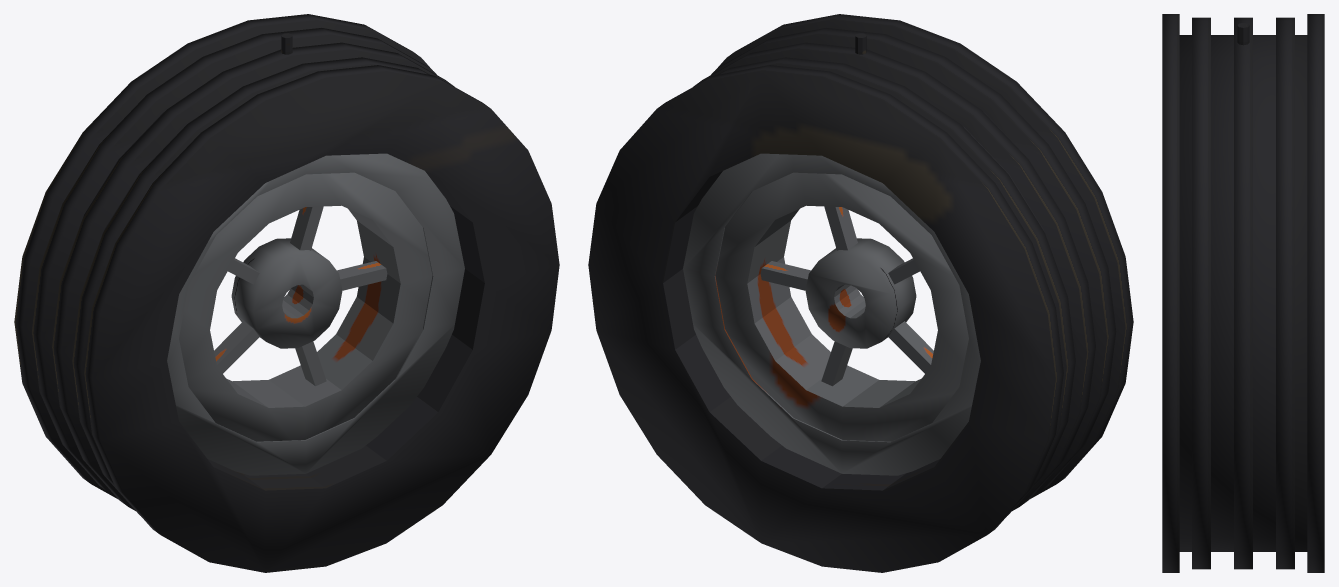
Rendered from old_tire.glb.
The picture shows the model from 3 angles, left to right: view 1: azimuth 30°, elevation 25°; view 2: azimuth 150°, elevation 25°; view 3: azimuth 270°, elevation 25°; orthographic projection. The views are drawn at different scales.
Visible parts, largest first — view 1: Sidewall, RimBarrel, RimFlange, TreadRib.001, TreadRib.002, Sidewall.001, TreadRib, Hub, TreadCore, Spoke.003, Spoke.001, Spoke (+1 smaller); view 2: Sidewall.001, RimBarrel, RimFlange.001, TreadRib.001, TreadRib, Sidewall, TreadRib.002, Hub, TreadCore, Spoke.003, Spoke.001, Spoke (+1 smaller); view 3: TreadCore, TreadRib, TreadRib.002, TreadRib.001, Sidewall, Sidewall.001, Valve.
Boxes of the visible parts, x1=… form: Sidewall: x1=84, y1=65, x2=559, y2=572; RimBarrel: x1=179, y1=172, x2=432, y2=441; RimFlange: x1=167, y1=153, x2=464, y2=475; TreadRib.001: x1=52, y1=42, x2=454, y2=510; TreadRib.002: x1=31, y1=28, x2=436, y2=496; Sidewall.001: x1=14, y1=14, x2=432, y2=499; TreadRib: x1=72, y1=57, x2=461, y2=515; Hub: x1=231, y1=238, x2=342, y2=348; TreadCore: x1=83, y1=112, x2=478, y2=486; Spoke.003: x1=214, y1=321, x2=259, y2=373; Spoke.001: x1=290, y1=206, x2=323, y2=250; Spoke: x1=337, y1=261, x2=387, y2=290; Sidewall.001: x1=588, y1=65, x2=1063, y2=572; RimBarrel: x1=715, y1=172, x2=968, y2=441; RimFlange.001: x1=683, y1=153, x2=980, y2=475; TreadRib.001: x1=693, y1=42, x2=1095, y2=510; TreadRib: x1=711, y1=28, x2=1116, y2=496; Sidewall: x1=715, y1=14, x2=1133, y2=499; TreadRib.002: x1=677, y1=57, x2=1075, y2=515; Hub: x1=805, y1=238, x2=916, y2=348; TreadCore: x1=669, y1=112, x2=1064, y2=485; Spoke.003: x1=888, y1=321, x2=933, y2=373; Spoke.001: x1=824, y1=206, x2=857, y2=250; Spoke: x1=760, y1=261, x2=810, y2=290; TreadCore: x1=1179, y1=35, x2=1307, y2=551; TreadRib: x1=1192, y1=17, x2=1210, y2=569; TreadRib.002: x1=1276, y1=17, x2=1294, y2=569; TreadRib.001: x1=1234, y1=17, x2=1252, y2=569; Sidewall: x1=1162, y1=14, x2=1179, y2=572; Sidewall.001: x1=1307, y1=14, x2=1324, y2=572; Valve: x1=1237, y1=23, x2=1249, y2=45.
Bounding box in the file's own units: 1.47 × 1.51 × 0.425.
16 materials, 16 textured.
